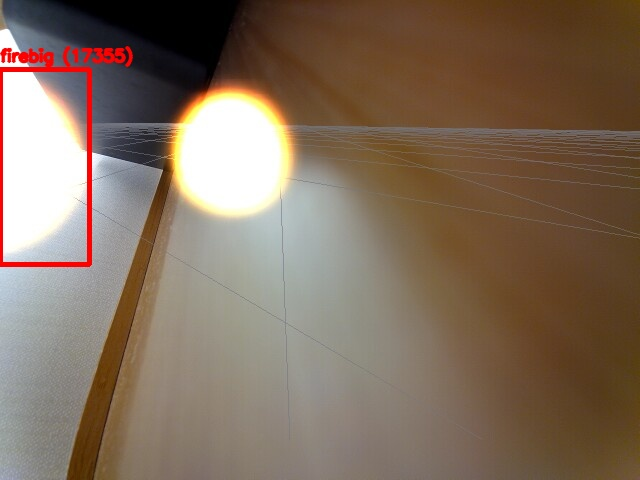firebig: (0, 69, 89, 264)
